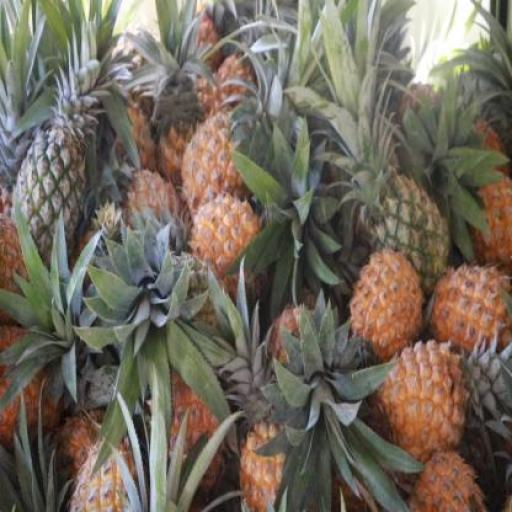Pineapple - v8 v1: (379, 336, 465, 459), (352, 248, 428, 362), (432, 266, 512, 362), (179, 124, 251, 226), (189, 199, 261, 288)
